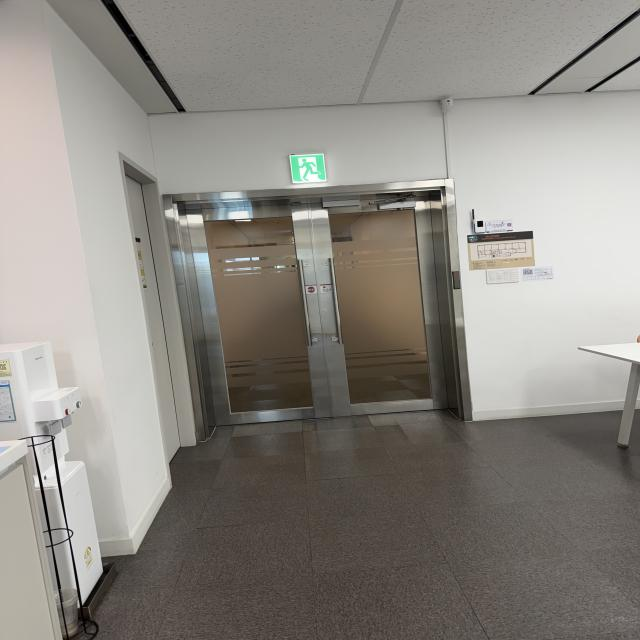rear_door: (166, 188, 462, 424)
